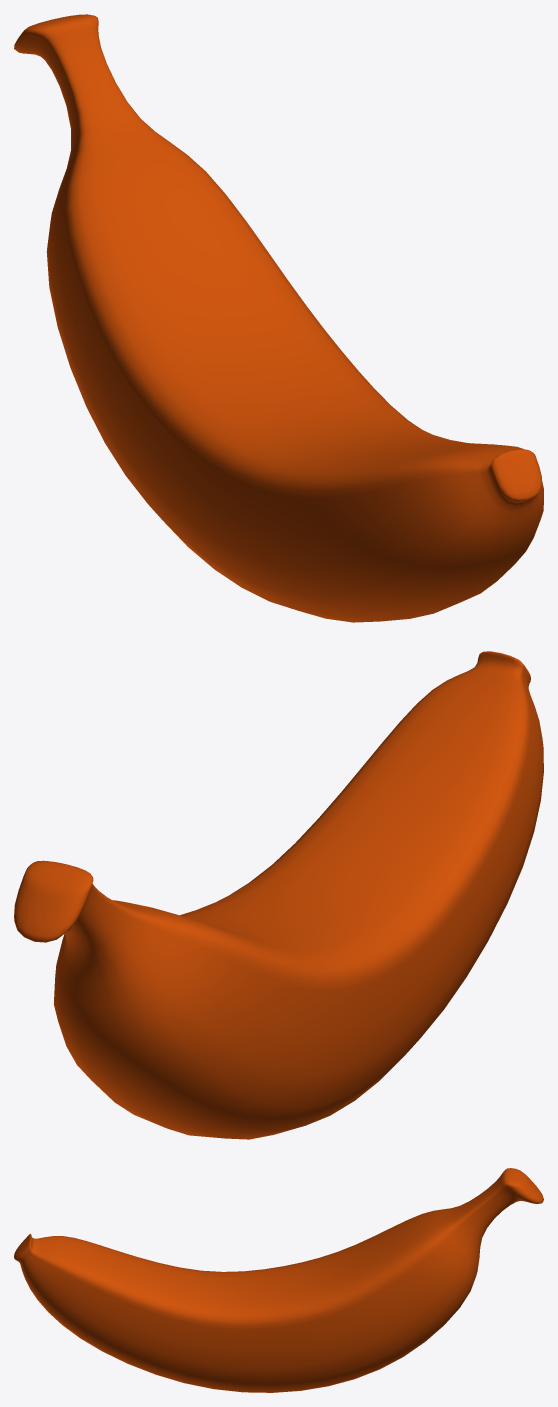
File: Banana.obj
The picture shows the model from 3 angles, top to bottom: view 1: azimuth 30°, elevation 25°; view 2: azimuth 150°, elevation 25°; view 3: azimuth 270°, elevation 25°; orthographic projection. The views are drawn at different scales.
Visible parts, largest first — view 1: Cube; view 2: Cube; view 3: Cube.
Boxes of the visible parts, x1,y1,x2,y2 form: Cube: (14,14,543,622); Cube: (14,651,543,1139); Cube: (14,1168,543,1392).
Bounding box in the file's own units: 2.58 × 4.99 × 11.19.
